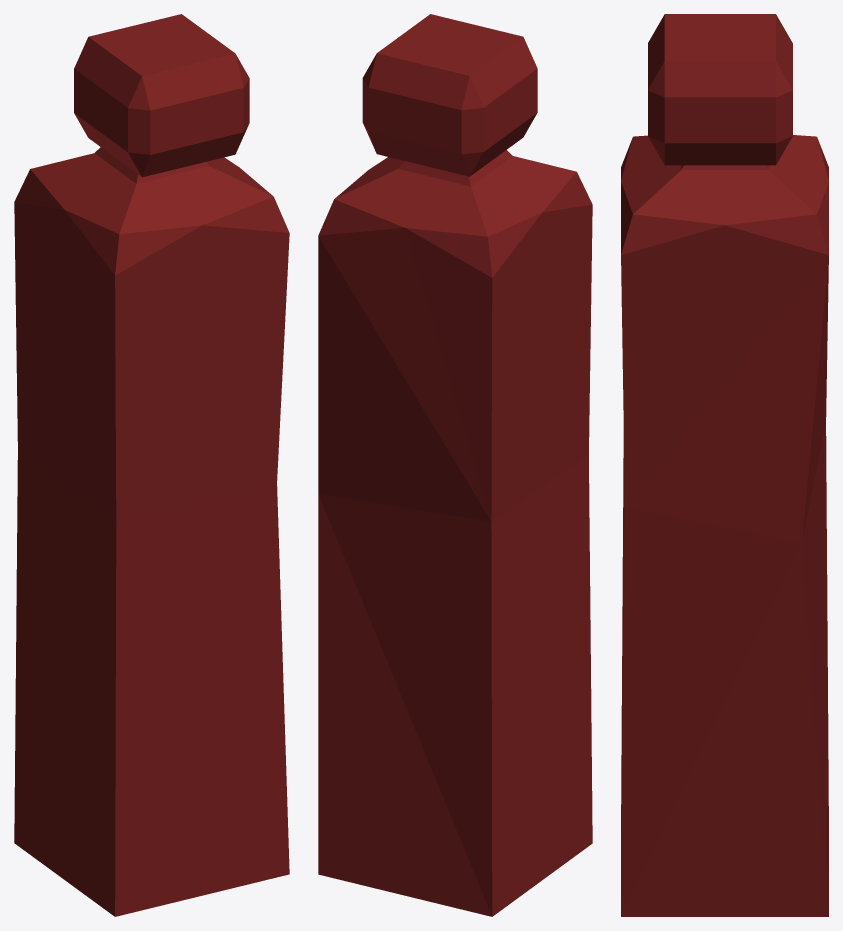
The model's file is Fence_2_4 Asia.fbx.
3 renders of one model, left to right at view 1: azimuth 30°, elevation 25°; view 2: azimuth 150°, elevation 25°; view 3: azimuth 270°, elevation 25°, orthographic. The views are drawn at different scales.
Visible parts, largest first — view 1: Fence_2_4; view 2: Fence_2_4; view 3: Fence_2_4.
Part boxes in pixels (x1=…): Fence_2_4: x1=14, y1=14, x2=289, y2=916; Fence_2_4: x1=318, y1=14, x2=592, y2=916; Fence_2_4: x1=621, y1=14, x2=828, y2=916.
Size of the model in its own units: 0.2477 by 1.03 by 0.2304.
